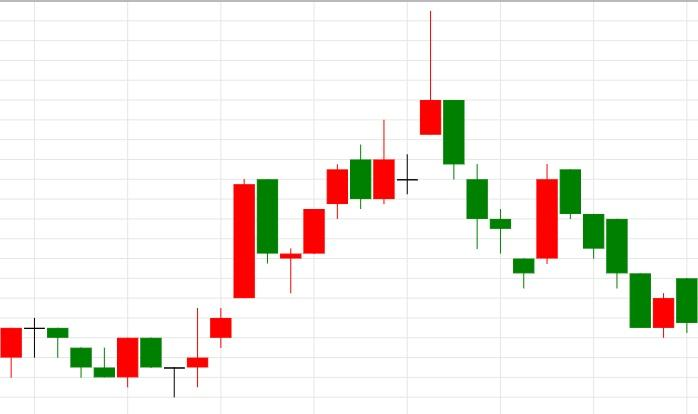shooting_star_fall: (279, 10, 442, 293)
three_black_crows_fall: (279, 9, 512, 294)
